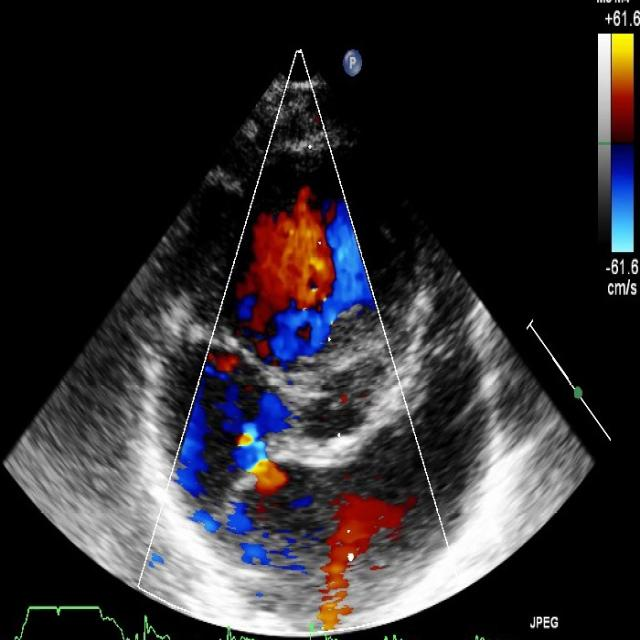ASDType2: (170, 352, 324, 544)
VSDType2: (234, 184, 377, 379)
